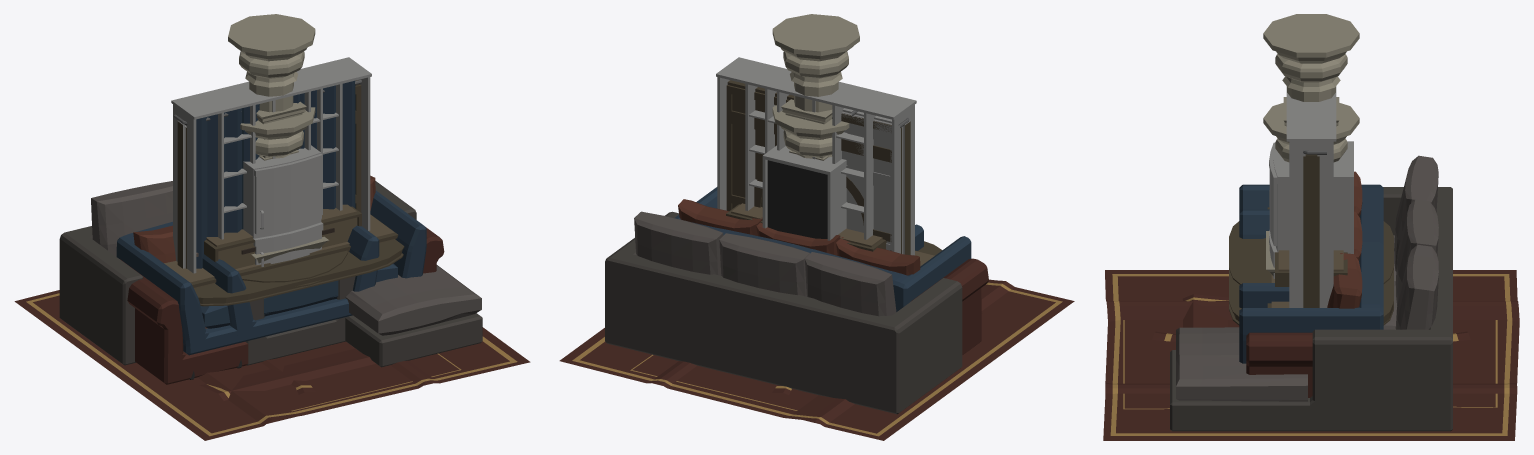
File: interior.glb
3 renders of one model, left to right at view 1: azimuth 30°, elevation 25°; view 2: azimuth 150°, elevation 25°; view 3: azimuth 270°, elevation 25°, orthographic. The views are drawn at different scales.
Visible parts, largest first — view 1: Couch_L, Carpet_2, Curtains_Double, Shelf_Large, Couch_Large1, Kitchen_Fridge, Couch_Medium1, Carpet_1, Couch_Small1, Column_Round3, Table_RoundLarge, Couch_Small2 (+9 smaller); view 2: Couch_L, Carpet_2, Kitchen_Fridge, Couch_Large1, Shelf_Large, Column_Round3, Bookshelf, Door_Double, Carpet_1, Couch_Medium1, Column_Round2, Door_1 (+5 smaller); view 3: Couch_L, Carpet_2, Carpet_1, Couch_Medium1, Shelf_Large, Column_Round3, Couch_Large1, Kitchen_Fridge, Door_Double, Couch_Small1, Column_Round2, Table_RoundLarge (+3 smaller).
Part boxes in pixels (left/top/right/bottom): Couch_L: left=59, top=181, right=482, bottom=367; Carpet_2: left=14, top=290, right=530, bottom=440; Curtains_Double: left=173, top=79, right=361, bottom=268; Shelf_Large: left=171, top=57, right=371, bottom=273; Couch_Large1: left=120, top=175, right=444, bottom=384; Kitchen_Fridge: left=243, top=145, right=323, bottom=266; Couch_Medium1: left=116, top=190, right=426, bottom=379; Carpet_1: left=200, top=341, right=461, bottom=423; Couch_Small1: left=202, top=225, right=379, bottom=368; Column_Round3: left=228, top=14, right=315, bottom=119; Table_RoundLarge: left=194, top=239, right=404, bottom=306; Couch_Small2: left=245, top=276, right=355, bottom=365; Couch_L: left=605, top=211, right=962, bottom=414; Carpet_2: left=559, top=279, right=1074, bottom=440; Kitchen_Fridge: left=762, top=145, right=846, bottom=240; Couch_Large1: left=678, top=199, right=988, bottom=354; Shelf_Large: left=716, top=57, right=916, bottom=255; Column_Round3: left=772, top=14, right=859, bottom=119; Bookshelf: left=743, top=64, right=888, bottom=239; Door_Double: left=726, top=80, right=910, bottom=254; Carpet_1: left=630, top=313, right=982, bottom=423; Couch_Medium1: left=675, top=187, right=971, bottom=311; Column_Round2: left=772, top=105, right=849, bottom=158; Door_1: left=841, top=113, right=891, bottom=250; Couch_L: left=1170, top=155, right=1452, bottom=431; Carpet_2: left=1103, top=270, right=1519, bottom=440; Carpet_1: left=1123, top=294, right=1497, bottom=409; Couch_Medium1: left=1239, top=184, right=1383, bottom=363; Shelf_Large: left=1286, top=87, right=1336, bottom=307; Column_Round3: left=1263, top=14, right=1359, bottom=101; Couch_Large1: left=1246, top=171, right=1362, bottom=397; Kitchen_Fridge: left=1269, top=141, right=1353, bottom=278; Door_Double: left=1303, top=154, right=1319, bottom=307; Couch_Small1: left=1239, top=209, right=1383, bottom=308; Column_Round2: left=1263, top=103, right=1359, bottom=162; Table_RoundLarge: left=1229, top=221, right=1393, bottom=325.
Bounding box in the file's own units: 3.09 × 3.23 × 3.18.
